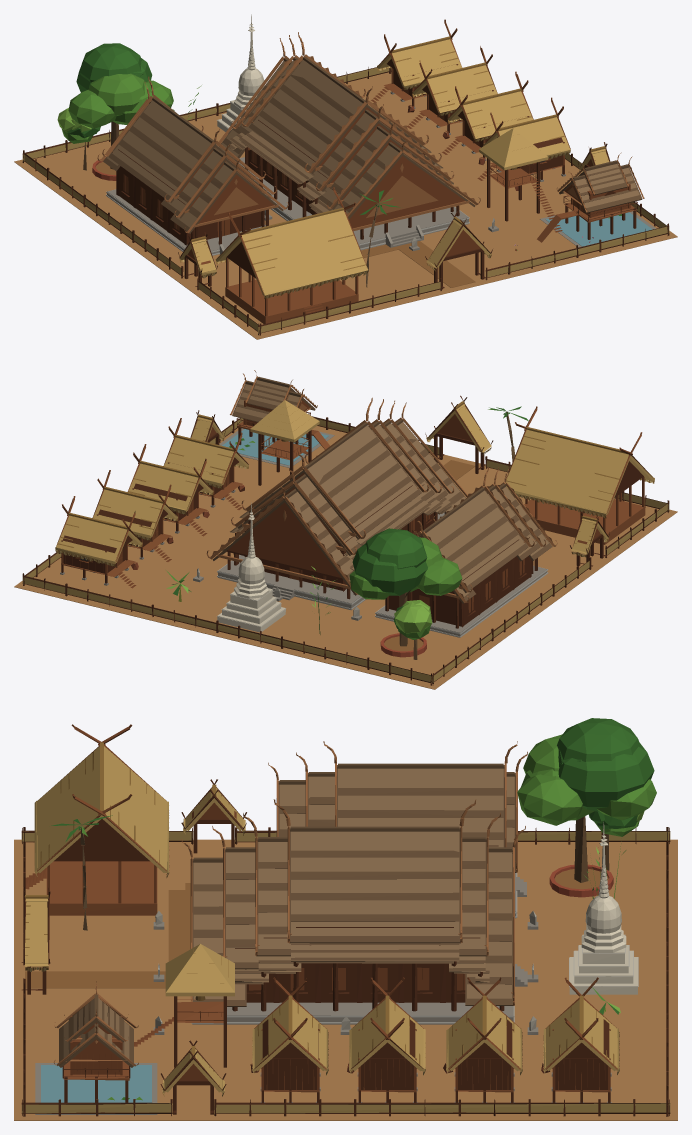
Rendered from temple_3.glb.
The picture shows the model from 3 angles, top to bottom: view 1: azimuth 30°, elevation 25°; view 2: azimuth 150°, elevation 25°; view 3: azimuth 270°, elevation 25°; orthographic projection. The views are drawn at different scales.
Parts seen in each view (by area): view 1: body; view 2: body; view 3: body.
Part boxes in pixels (box(x1,y1,x2,y2)): body: box(14, 14, 677, 339); body: box(14, 370, 677, 689); body: box(14, 718, 677, 1120).
Bounding box in the file's own units: 47.9 × 14.6 × 47.9.
